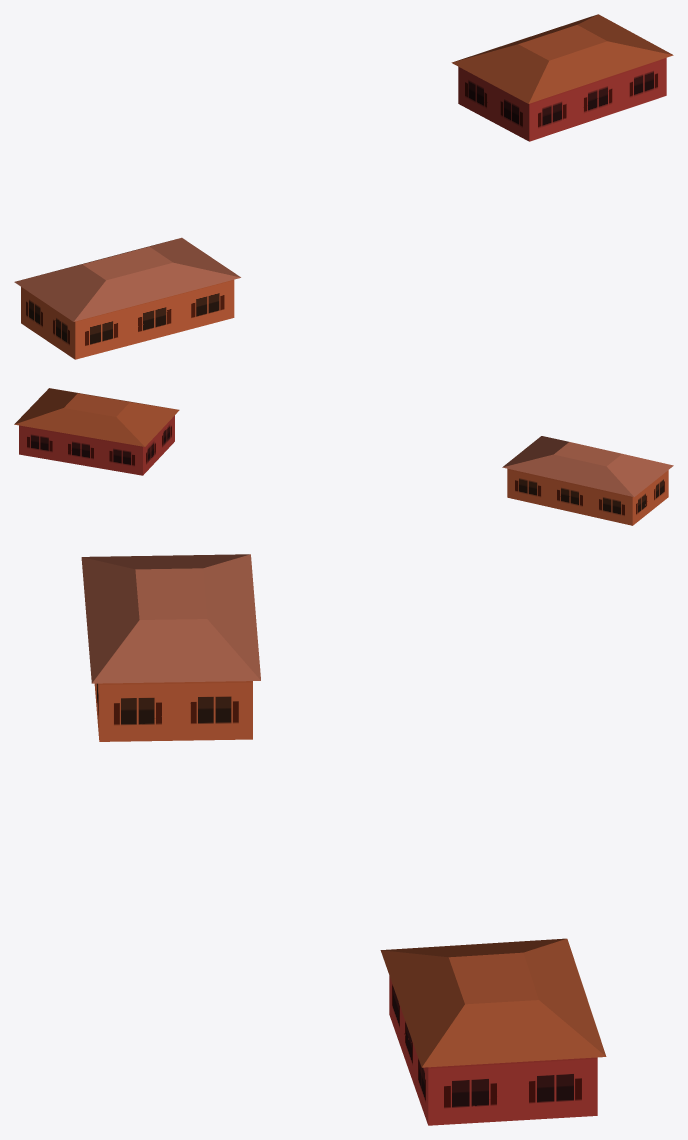
File: msb_palmbeach_m22_m15.glb
3 views of the same model, one above another, from view 1: azimuth 30°, elevation 25°; view 2: azimuth 150°, elevation 25°; view 3: azimuth 270°, elevation 25° (orthographic). The views are drawn at different scales.
Parts seen in each view (by area): view 1: msb_palmbeach_m22_m15_lod0; view 2: msb_palmbeach_m22_m15_lod0; view 3: msb_palmbeach_m22_m15_lod0.
Part boxes in pixels (x1,y1,x2,y2): msb_palmbeach_m22_m15_lod0: [14, 14, 673, 359]; msb_palmbeach_m22_m15_lod0: [14, 388, 673, 525]; msb_palmbeach_m22_m15_lod0: [81, 554, 606, 1125].
Size of what is drawn, in the model's own units: 64.37 by 5.81 by 26.97.
Materials: 2 (1 with a texture image).
